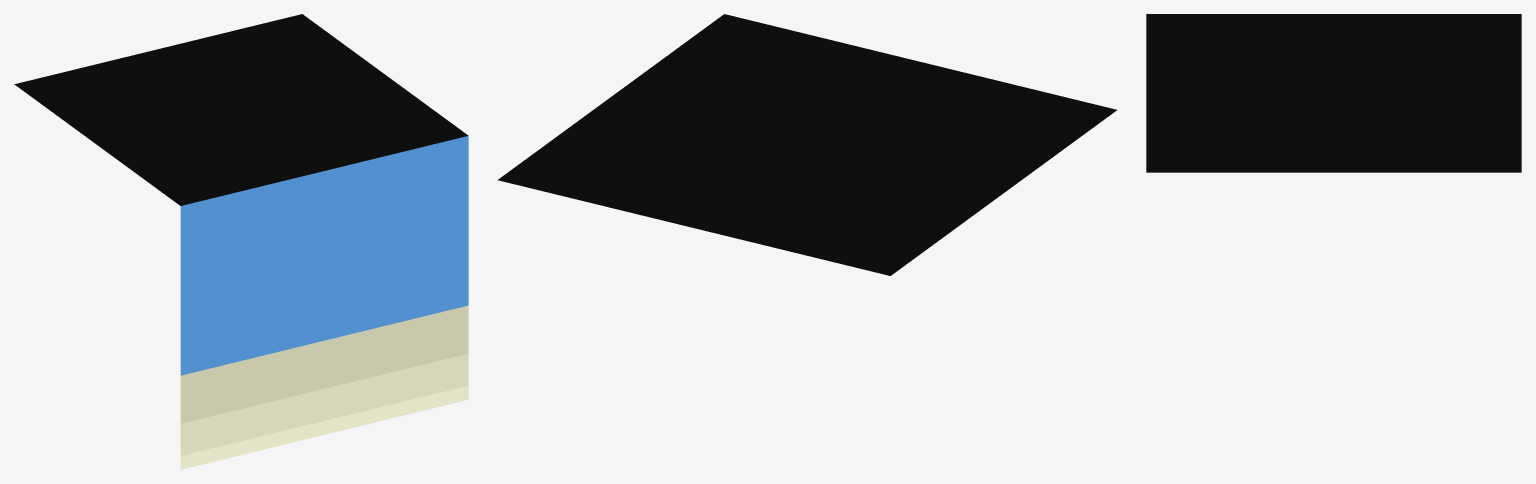
3 views of the same model, side by side, from view 1: azimuth 30°, elevation 25°; view 2: azimuth 150°, elevation 25°; view 3: azimuth 270°, elevation 25° (orthographic). The views are drawn at different scales.
Bounding box in the file's own units: 1 × 0.875 × 1.
2 materials, 2 textured.
